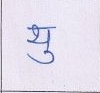u_matra: (27, 50, 57, 64)
